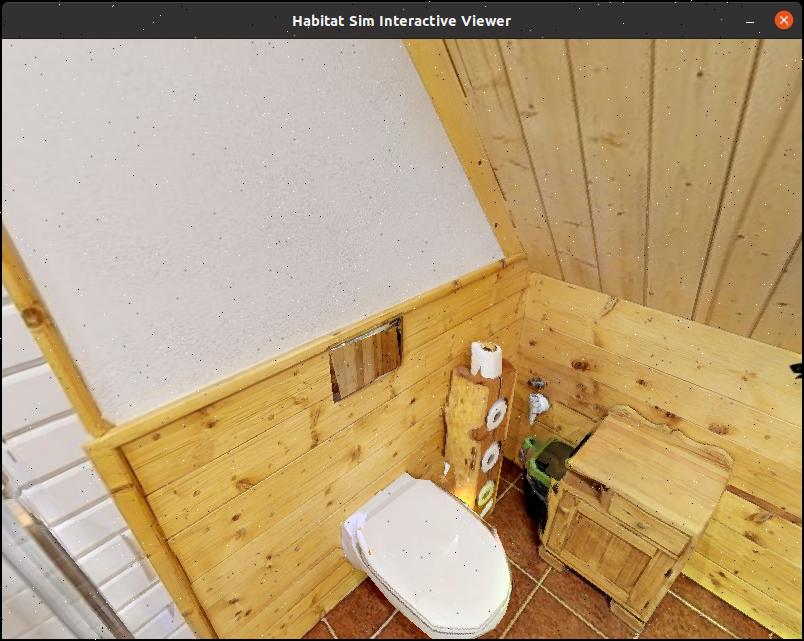toilet: (317, 466, 535, 641)
